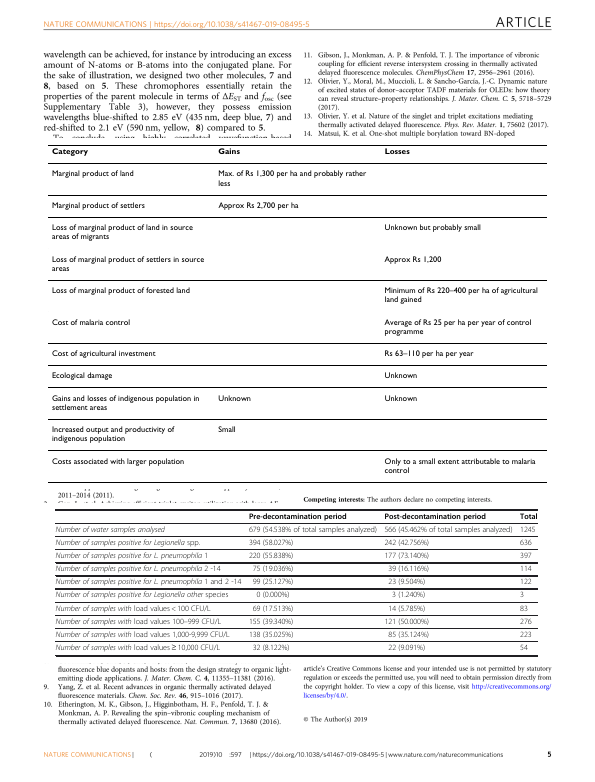borderless: (47, 143, 547, 482), (55, 508, 537, 655)
cell: (50, 255, 205, 274), (383, 286, 538, 305), (383, 457, 536, 476), (217, 170, 367, 189), (50, 394, 200, 413), (383, 318, 532, 337), (50, 223, 193, 242), (50, 425, 175, 444), (55, 630, 231, 640), (55, 578, 242, 587), (55, 617, 222, 627), (55, 564, 221, 574), (55, 643, 221, 653), (55, 591, 229, 600), (55, 551, 209, 561), (55, 538, 201, 548), (55, 604, 211, 613), (50, 286, 190, 296), (50, 457, 185, 467), (248, 525, 378, 535), (383, 525, 513, 535), (55, 525, 166, 535), (50, 349, 156, 359), (383, 223, 481, 233), (50, 201, 145, 211), (383, 512, 487, 521), (383, 349, 474, 359), (248, 512, 347, 521), (217, 201, 299, 211), (50, 318, 131, 328), (50, 170, 134, 179), (383, 255, 442, 265), (50, 372, 113, 381), (383, 538, 430, 548), (383, 551, 430, 561), (383, 617, 430, 627), (248, 538, 294, 548), (248, 551, 294, 561), (248, 617, 294, 627), (248, 630, 294, 640), (387, 564, 430, 574), (387, 630, 430, 640), (252, 564, 294, 574), (387, 643, 426, 653), (252, 643, 290, 653), (252, 578, 294, 587), (252, 604, 294, 613), (387, 578, 426, 587), (387, 604, 426, 613), (383, 394, 418, 404), (50, 148, 88, 157), (217, 394, 251, 404), (255, 591, 290, 600), (391, 591, 426, 600), (383, 372, 418, 381), (383, 148, 410, 157), (217, 148, 240, 157), (217, 425, 236, 435), (519, 512, 538, 521), (519, 525, 536, 535), (519, 538, 533, 548), (519, 551, 533, 561), (519, 564, 533, 574), (519, 617, 533, 627), (519, 630, 533, 640), (519, 578, 533, 587), (519, 643, 529, 653), (519, 604, 529, 613), (519, 591, 525, 600)
